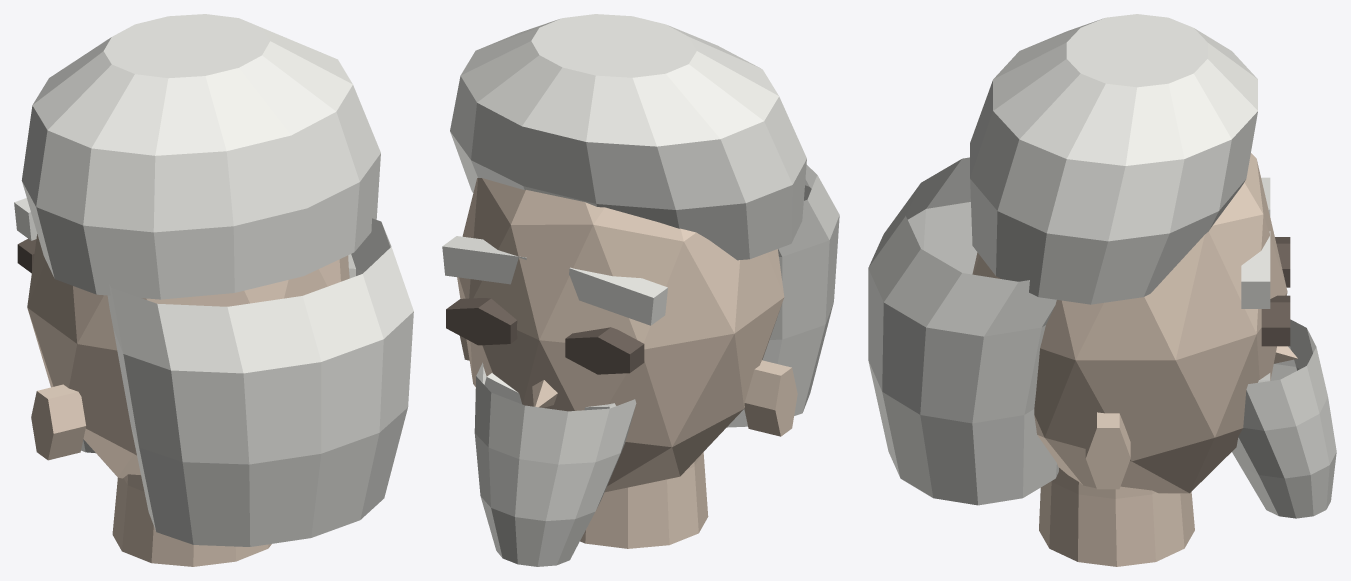
File: 19-NPCs_cabeza_alargada.glb
3 views of the same model, side by side, from view 1: azimuth 30°, elevation 25°; view 2: azimuth 150°, elevation 25°; view 3: azimuth 270°, elevation 25° (orthographic).
Visible parts, largest first — view 1: SM_Cab_M_CabB_Cabello, SM_Cab_M_CabB_Piel; view 2: SM_Cab_M_CabB_Cabello, SM_Cab_M_CabB_Piel, SM_Cab_M_CabB_Ojos; view 3: SM_Cab_M_CabB_Cabello, SM_Cab_M_CabB_Piel, SM_Cab_M_CabB_Ojos.
Part boxes in pixels (bbox=[...]): SM_Cab_M_CabB_Cabello: bbox=[14, 14, 413, 546]; SM_Cab_M_CabB_Piel: bbox=[27, 234, 349, 566]; SM_Cab_M_CabB_Cabello: bbox=[442, 14, 839, 566]; SM_Cab_M_CabB_Piel: bbox=[457, 178, 797, 548]; SM_Cab_M_CabB_Ojos: bbox=[446, 298, 644, 374]; SM_Cab_M_CabB_Cabello: bbox=[868, 14, 1336, 518]; SM_Cab_M_CabB_Piel: bbox=[972, 153, 1297, 566]; SM_Cab_M_CabB_Ojos: bbox=[1261, 237, 1290, 346].
Size of the model in its own units: 0.264 by 0.366 by 0.324.
